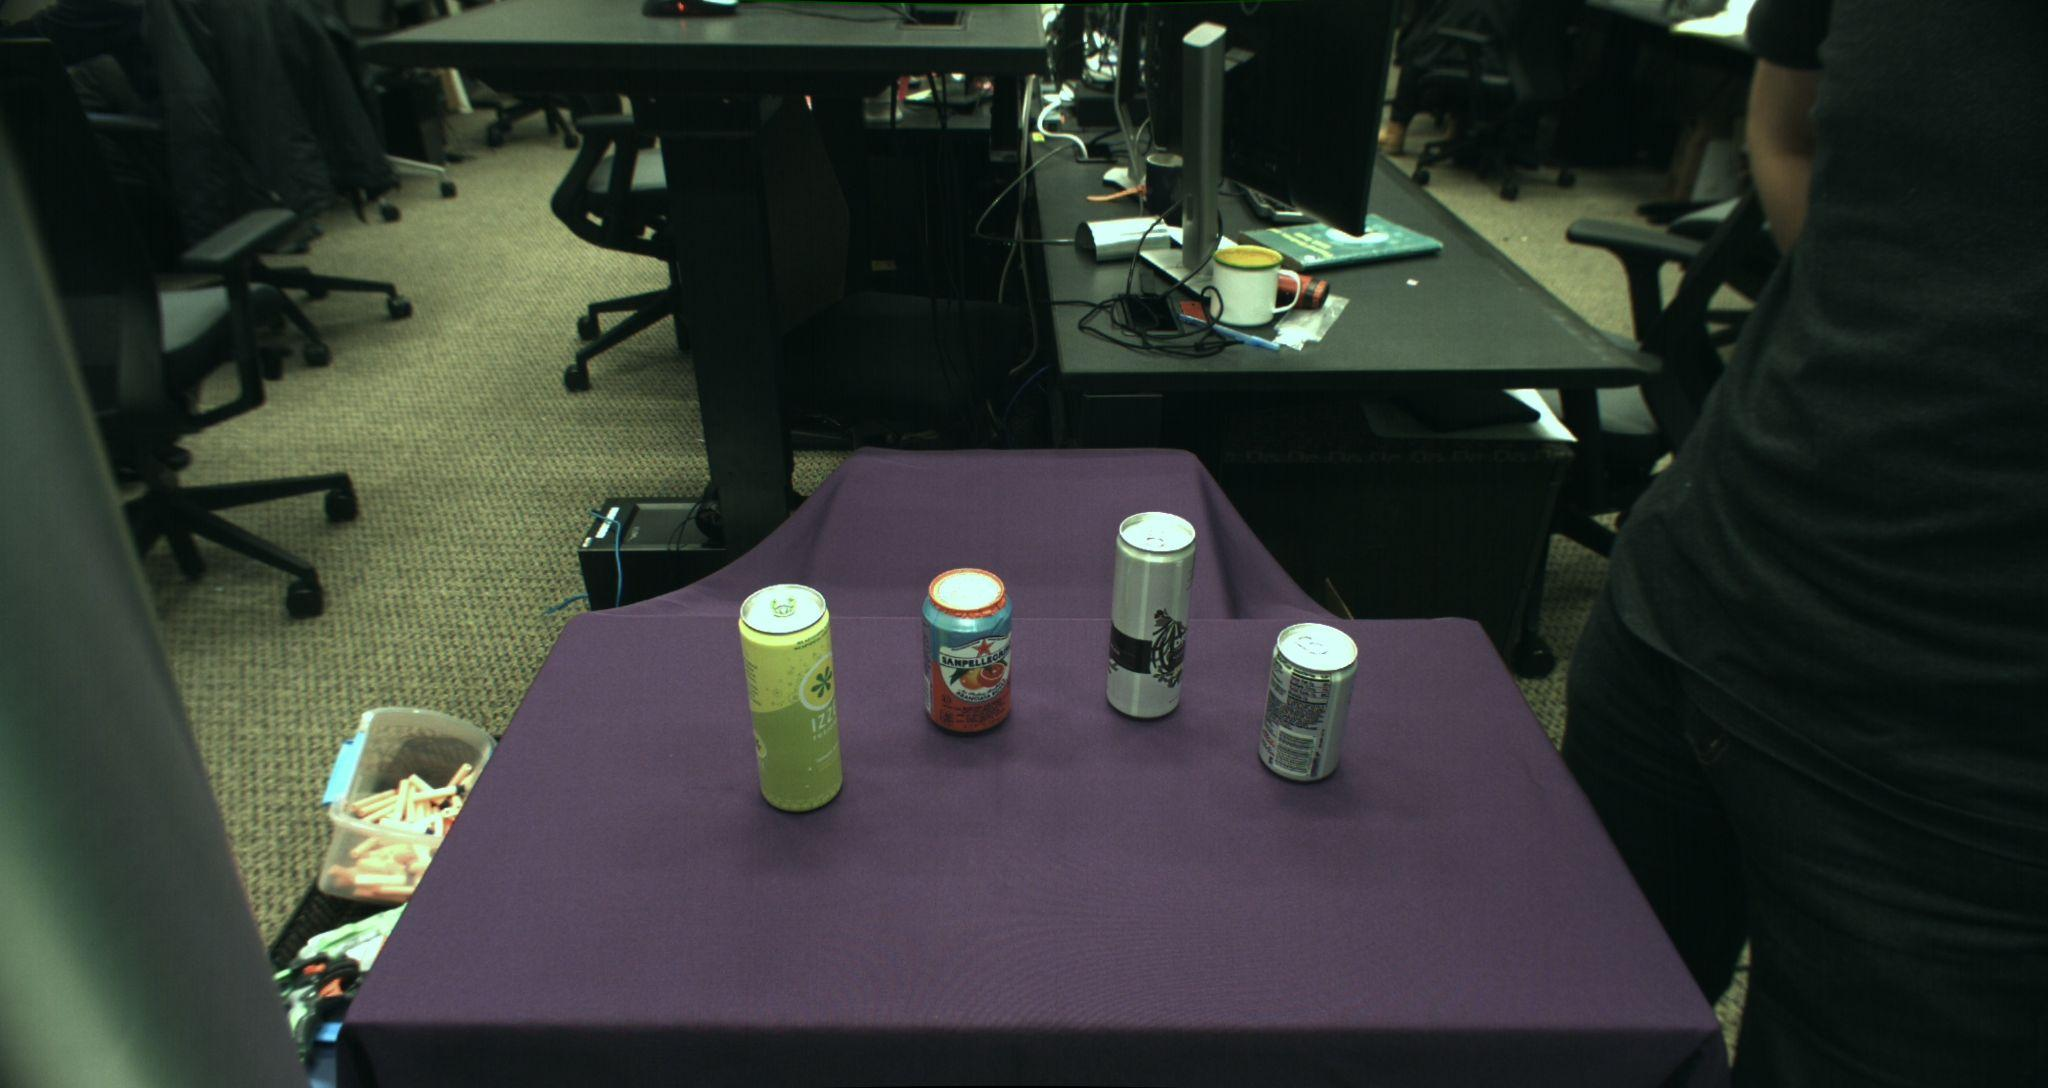can_diet_coke_small: (1257, 623, 1360, 784)
can_dry_sparkling_vanilla_bean: (1107, 512, 1197, 719)
can_izze_fusions_lemon_lime: (737, 584, 847, 812)
can_sanpellegrino_blood_orange: (922, 566, 1012, 734)
